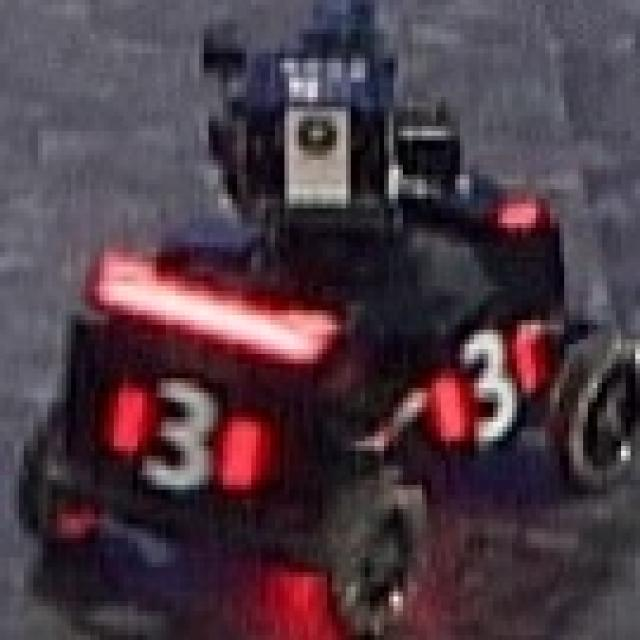R3: (98, 368, 258, 504), (424, 308, 543, 463)
